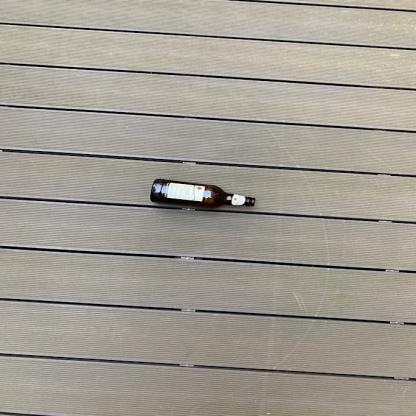trash: (146, 176, 260, 216)
